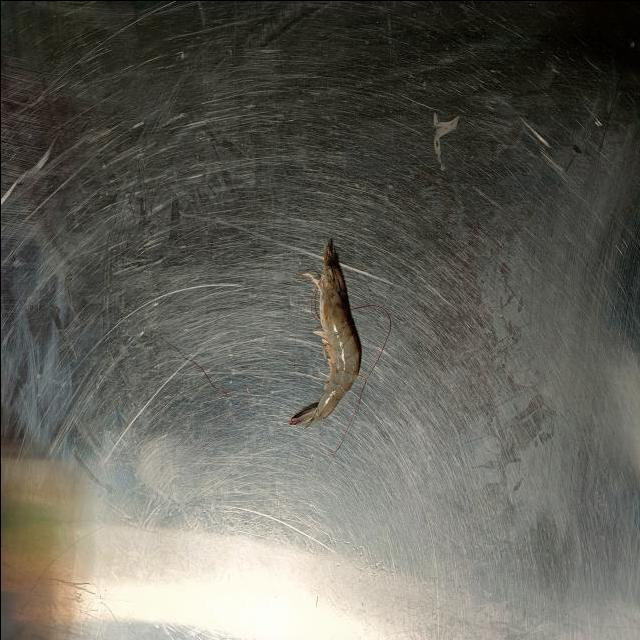shrimp: (289, 242, 360, 426)
